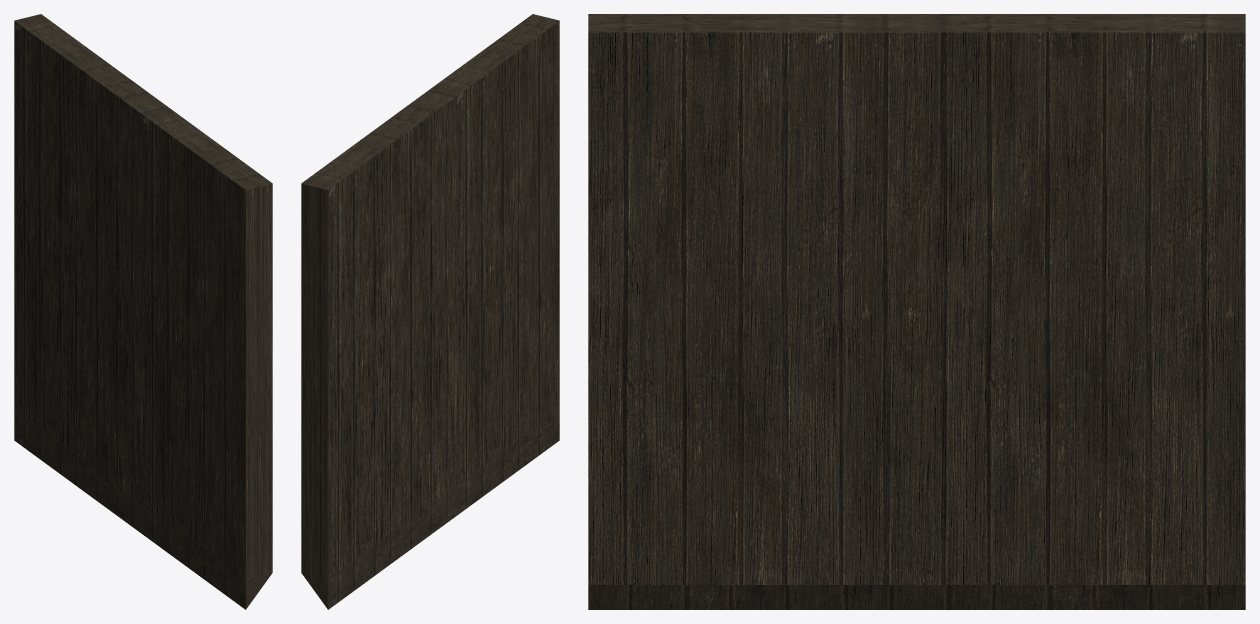
The model's file is woodenPlankWall(kesik).fbx.
The picture shows the model from 3 angles, left to right: view 1: azimuth 30°, elevation 25°; view 2: azimuth 150°, elevation 25°; view 3: azimuth 270°, elevation 25°; orthographic projection. The views are drawn at different scales.
Parts seen in each view (by area): view 1: Cube; view 2: Cube; view 3: Cube.
Boxes of the visible parts, <box> form: Cube: <box>14,14,272,609</box>; Cube: <box>301,14,559,609</box>; Cube: <box>588,14,1245,609</box>.
Size of the model in its own units: 20.19 by 300 by 300.
Materials: 1 (1 with a texture image).
